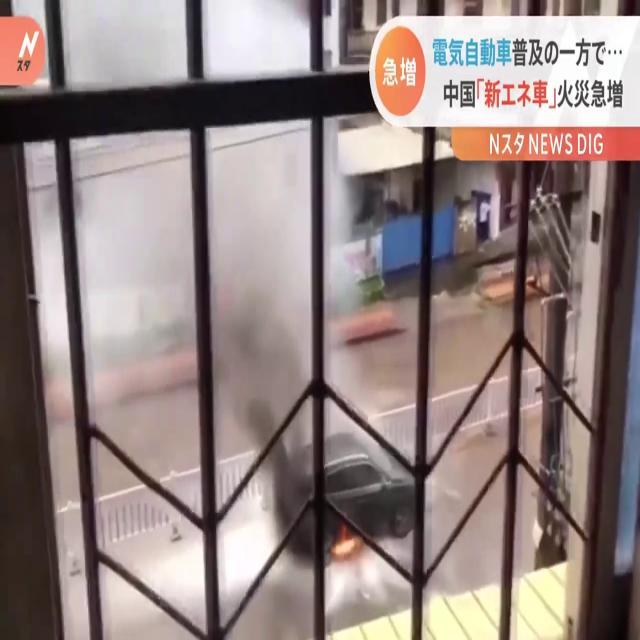Smoke: (113, 122, 371, 521)
